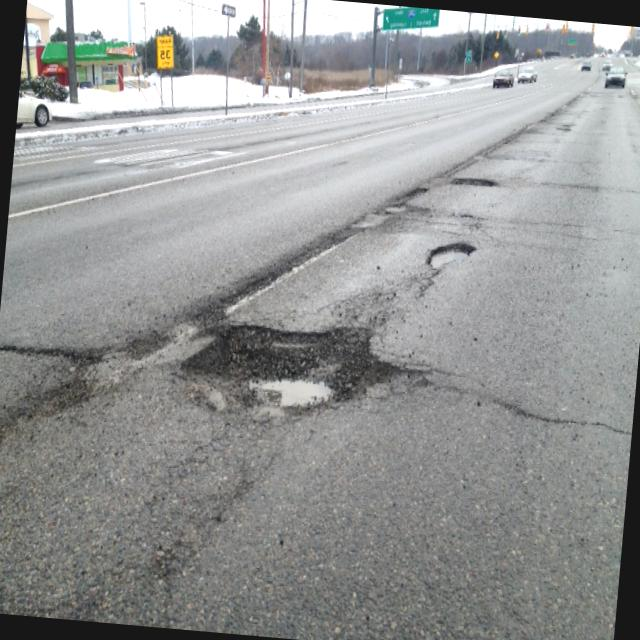bad-road: (168, 306, 430, 422), (354, 177, 427, 236), (426, 238, 472, 274), (448, 173, 500, 189)
